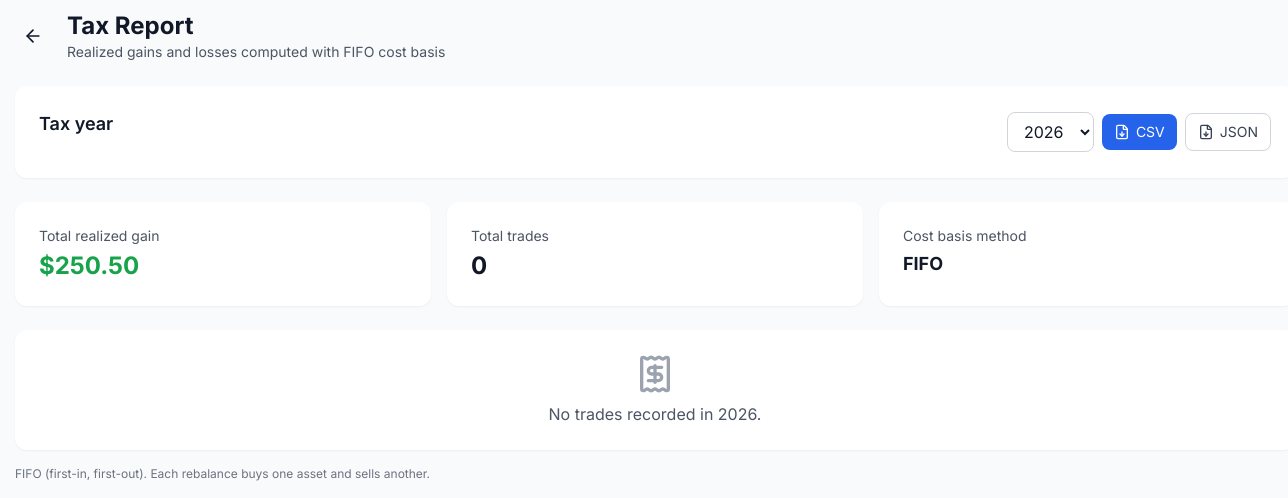
Test: TaxReportPage › shows an empty state when no trades are recorded
Select "2025" in the dropdown at (1050, 132), box 1007,112 -> 1094,152
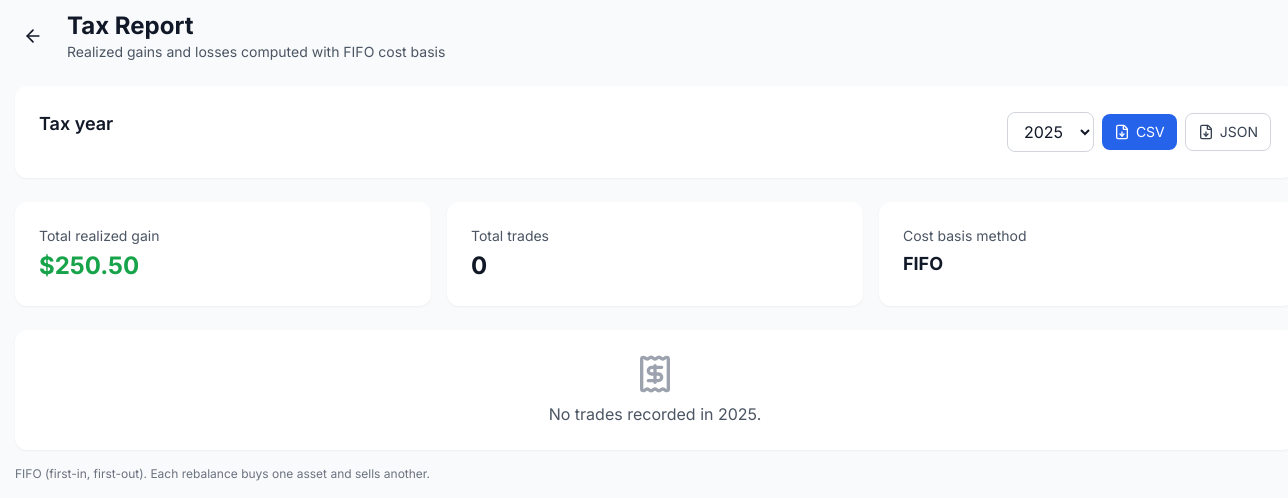
expect the text "No trades recorded in 2025." is shown: met, box 549,404 -> 761,424
